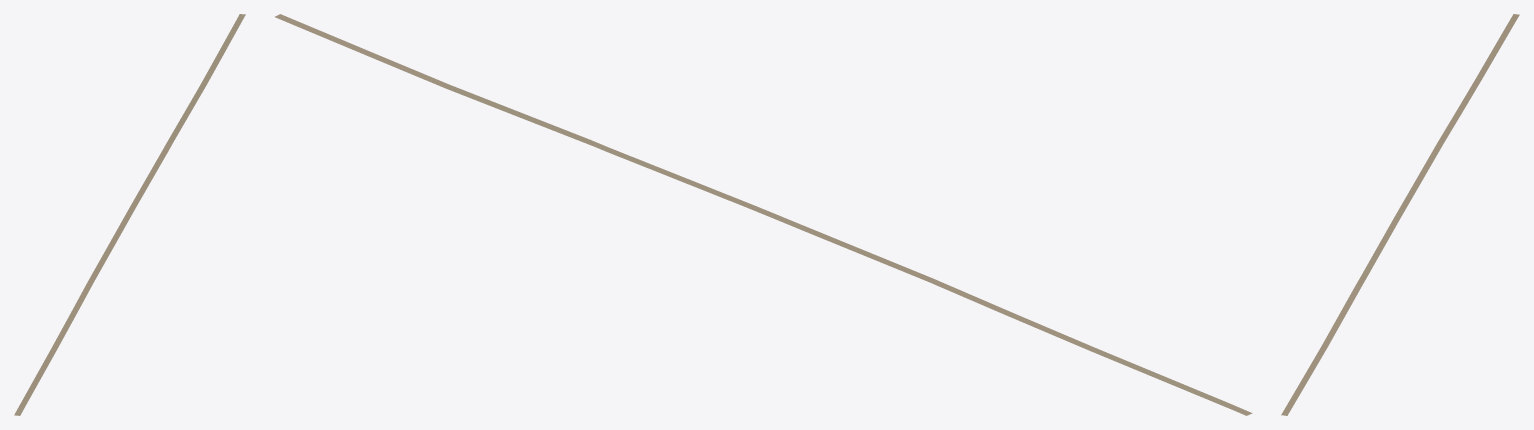
The model's file is farm_7_-1_track.glb.
3 renders of one model, left to right at view 1: azimuth 90°, elevation 25°; view 2: azimuth 150°, elevation 25°; view 3: azimuth 270°, elevation 25°, orthographic. The views are drawn at different scales.
Parts seen in each view (by area): view 1: geometry_0; view 2: geometry_0; view 3: geometry_0.
Boxes of the visible parts, box(x1,y1,x2,y2) form: geometry_0: box(14, 14, 245, 415); geometry_0: box(275, 14, 1252, 415); geometry_0: box(1281, 14, 1519, 415).
Size of the model in its own units: 484 by 3.46 by 120.
